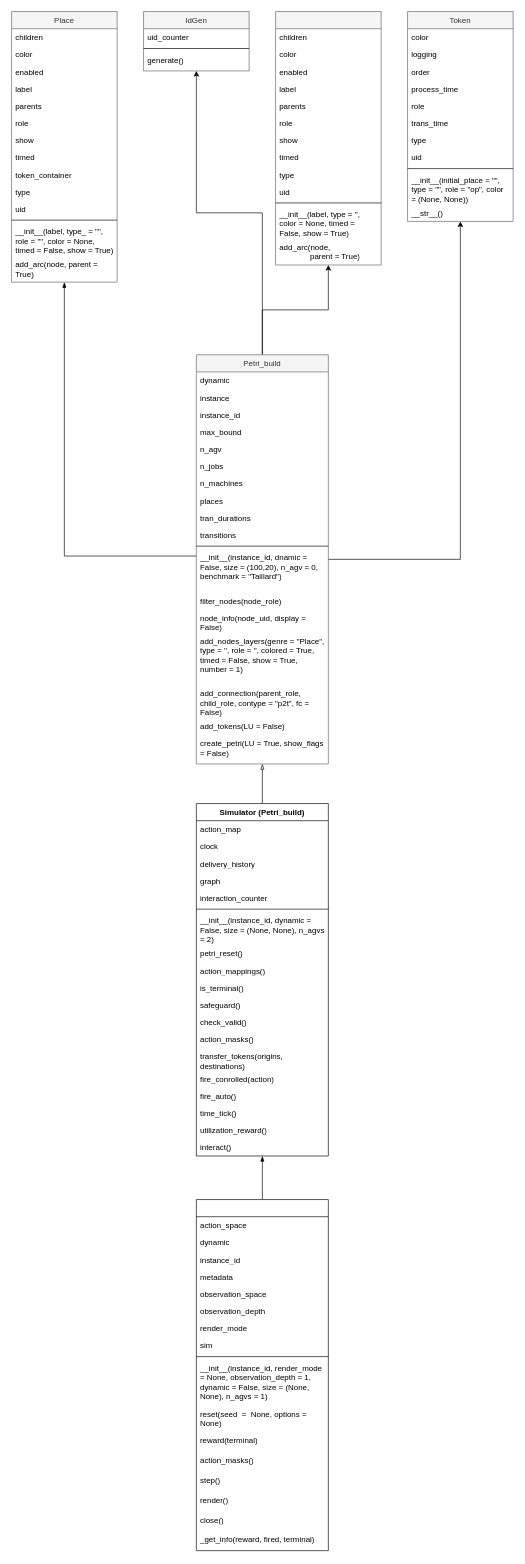
This 525x1564 diagram has some shape labels left out. The shapes that lost their labels are listed below. From the top down, each one's box as (x1, y1, x2, y2) in pixels, then its label:
(275, 11, 381, 265): Transition
(196, 1199, 328, 1551): AgvEnv
